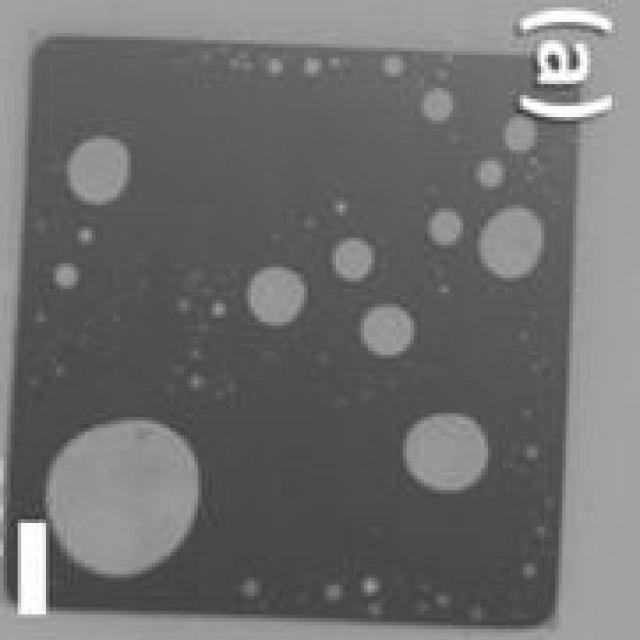component: (15, 52, 601, 631)
void: (46, 421, 202, 580), (403, 413, 491, 496), (481, 205, 548, 280), (67, 135, 131, 207), (248, 267, 308, 327), (364, 304, 417, 357), (332, 238, 378, 283), (431, 208, 467, 247), (506, 117, 541, 152), (424, 88, 456, 123), (477, 161, 506, 188), (240, 578, 258, 602), (364, 578, 382, 598), (385, 59, 405, 77), (230, 59, 255, 73), (78, 227, 95, 247), (304, 59, 320, 79), (325, 585, 343, 602), (269, 59, 286, 75), (214, 304, 230, 320), (520, 329, 534, 347), (523, 563, 537, 580), (527, 446, 541, 463), (435, 596, 453, 609), (368, 603, 385, 616), (338, 201, 350, 218), (191, 377, 203, 393), (177, 300, 191, 313), (438, 285, 453, 296)
